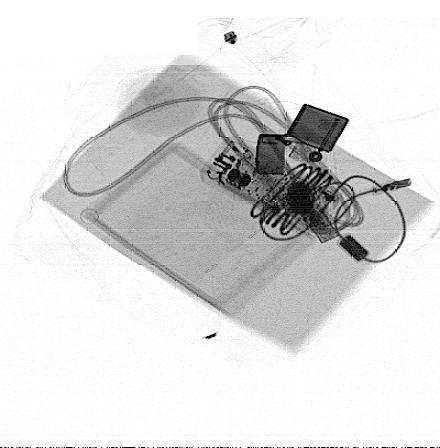Lighter: (254, 103, 351, 175)
